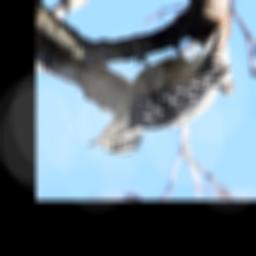Woodpecker: (85, 26, 233, 156)
